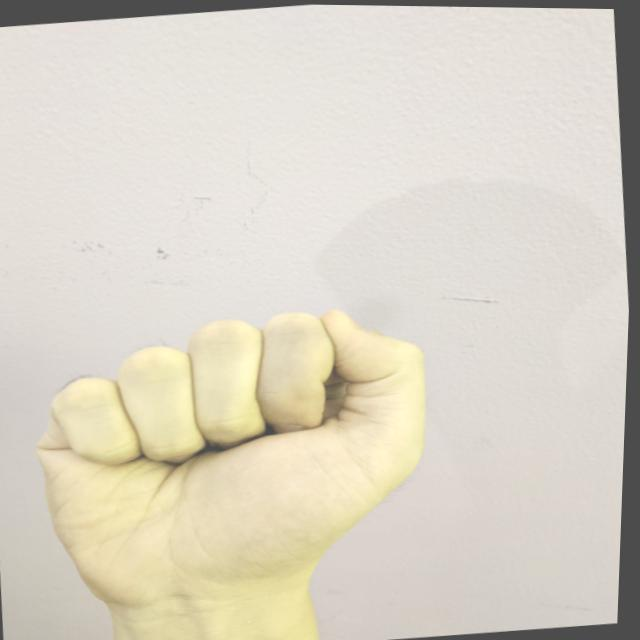A: (17, 289, 460, 622)
